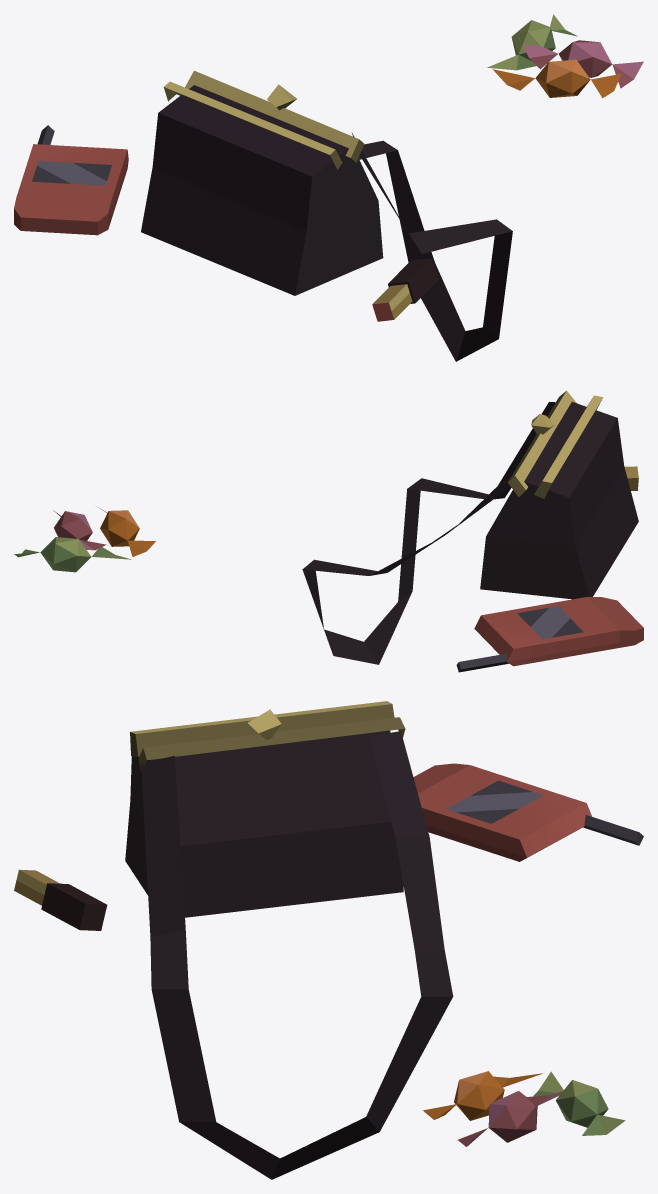
Rendered from Character02_Assets.fbx.
3 views of the same model, one above another, from view 1: azimuth 30°, elevation 25°; view 2: azimuth 150°, elevation 25°; view 3: azimuth 270°, elevation 25° (orthographic). The views are drawn at different scales.
Parts seen in each view (by area): view 1: Mesh_Bag, Mesh_Cellphone, Mesh_Candies, Mesh_Lipstick; view 2: Mesh_Bag, Mesh_Cellphone, Mesh_Candies; view 3: Mesh_Bag, Mesh_Cellphone, Mesh_Candies, Mesh_Lipstick.
Boxes of the visible parts, x1,y1,x2,y2 form: Mesh_Bag: (141,70,512,361); Mesh_Cellphone: (14,125,128,235); Mesh_Candies: (487,14,643,98); Mesh_Lipstick: (372,258,438,321); Mesh_Bag: (302,390,638,664); Mesh_Cellphone: (456,597,643,672); Mesh_Candies: (14,507,155,572); Mesh_Bag: (125,701,453,1179); Mesh_Cellphone: (413,763,643,861); Mesh_Candies: (423,1071,625,1146); Mesh_Lipstick: (14,869,107,930).
Size of the model in its own units: 9.24 by 6.84 by 4.44.
